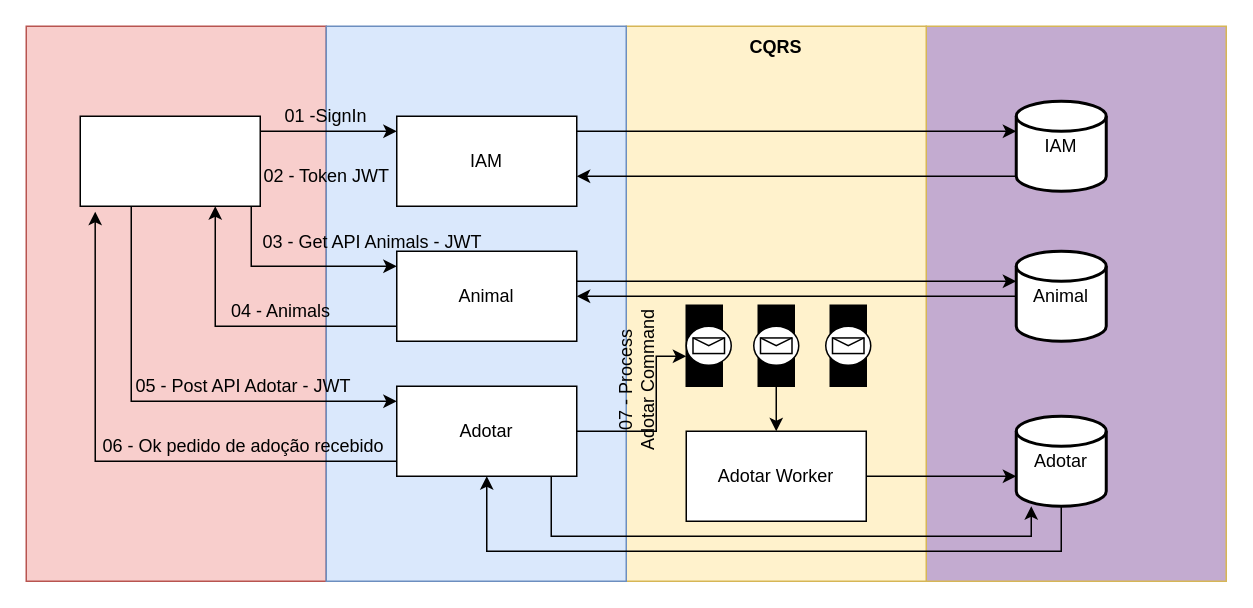
Some shapes in this 1253 by 608 pixel diagram are drawn without their labels. Each missing label, with the box of its shape:
APP: (25, 25, 326, 581)
DB: (925, 25, 1226, 581)
MICROSERVICE: (325, 25, 626, 581)
PetShop: (79, 115, 260, 206)
